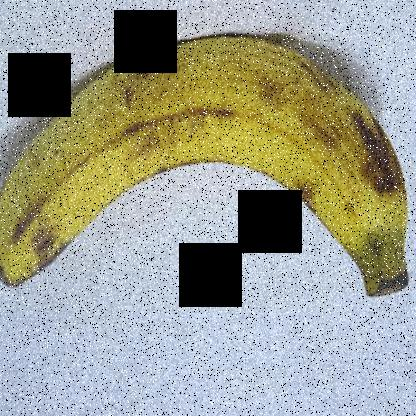ripe: (1, 14, 412, 317)
